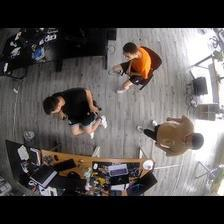normal: (41, 87, 105, 137), (137, 115, 203, 158), (106, 40, 155, 91)
